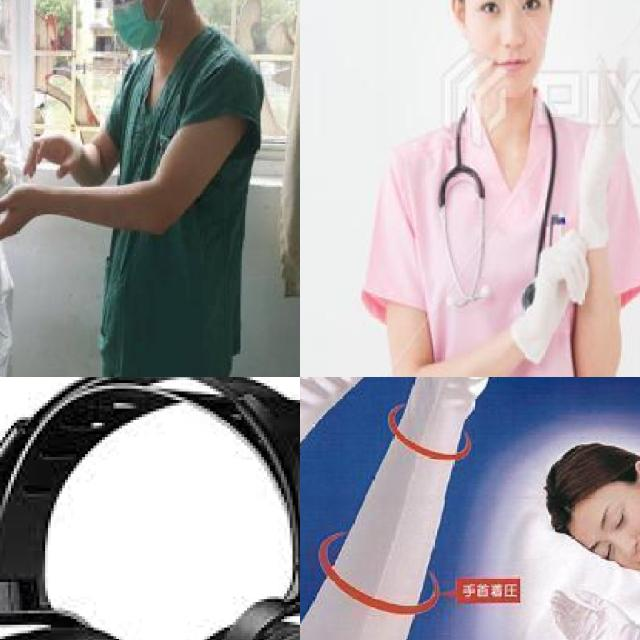No_Ear-Protection: (633, 456, 640, 492)
No_Glasses: (592, 501, 628, 563), (461, 0, 548, 23)
face_mask: (109, 0, 165, 59)
face_nomask: (462, 0, 540, 86), (580, 496, 640, 577)
glasses: (100, 0, 135, 9)
hand_glove: (581, 54, 629, 187), (528, 225, 588, 316), (552, 590, 637, 640), (0, 152, 8, 188)
hand_noglove: (22, 130, 81, 181), (0, 184, 39, 244)
head_nohelmet: (546, 433, 626, 518)
person: (11, 0, 291, 377), (361, 0, 640, 377), (517, 421, 640, 640)
